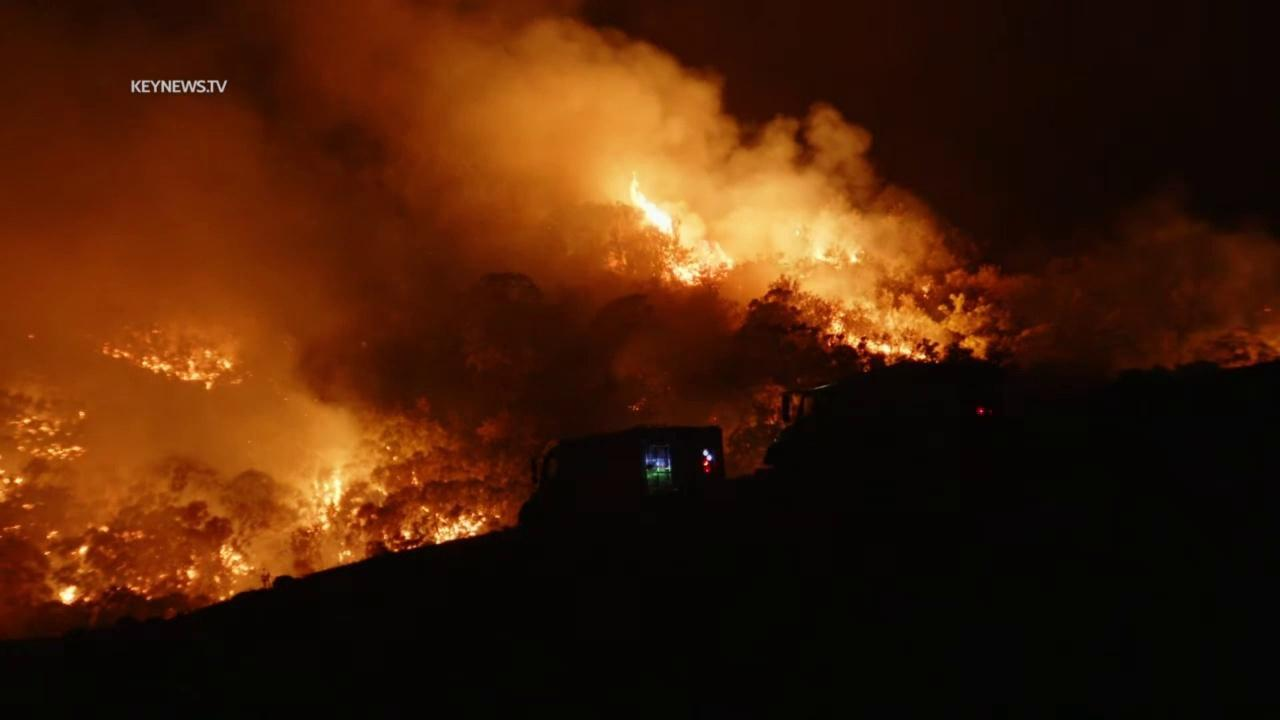fire: (56, 522, 257, 610), (99, 322, 245, 393), (302, 466, 360, 566), (655, 224, 744, 287), (2, 407, 96, 463), (843, 333, 938, 366), (417, 503, 488, 546), (805, 242, 846, 273), (849, 251, 864, 265), (920, 282, 929, 300), (25, 333, 39, 341), (632, 404, 640, 412), (710, 415, 720, 421)
smoke: (0, 0, 1280, 649)
